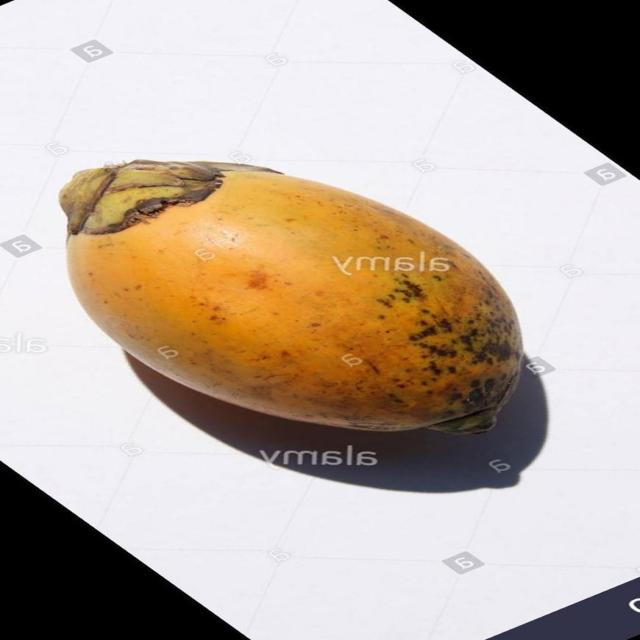good: (59, 161, 525, 436)
